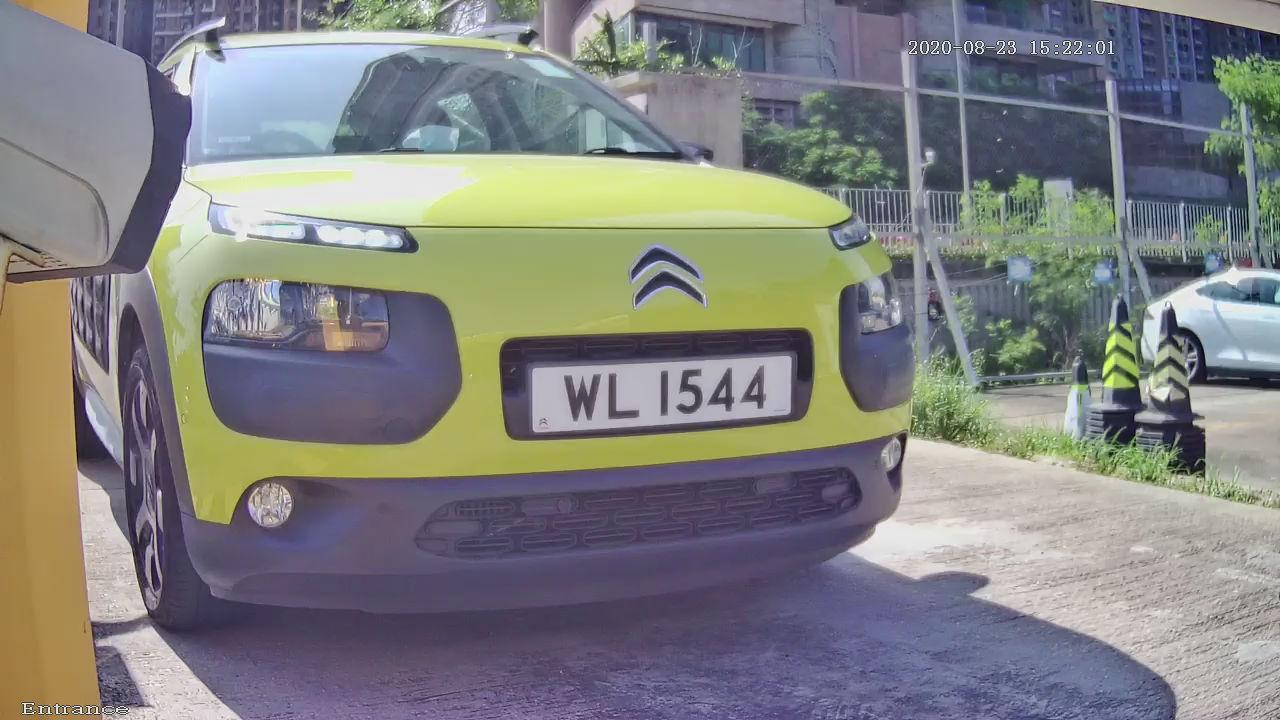Car: (29, 13, 1001, 643)
License Plate: (509, 338, 812, 441)
